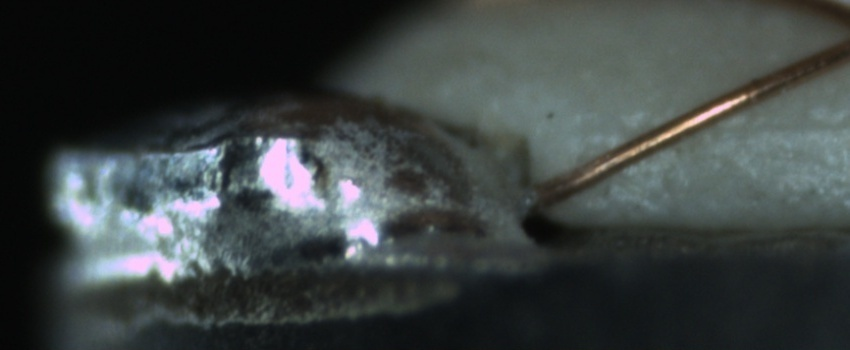DL: (613, 93, 849, 160)
